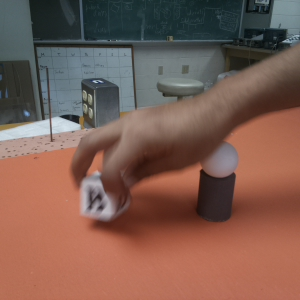blockB: (75, 175, 132, 215)
obstacle: (203, 144, 239, 224)
